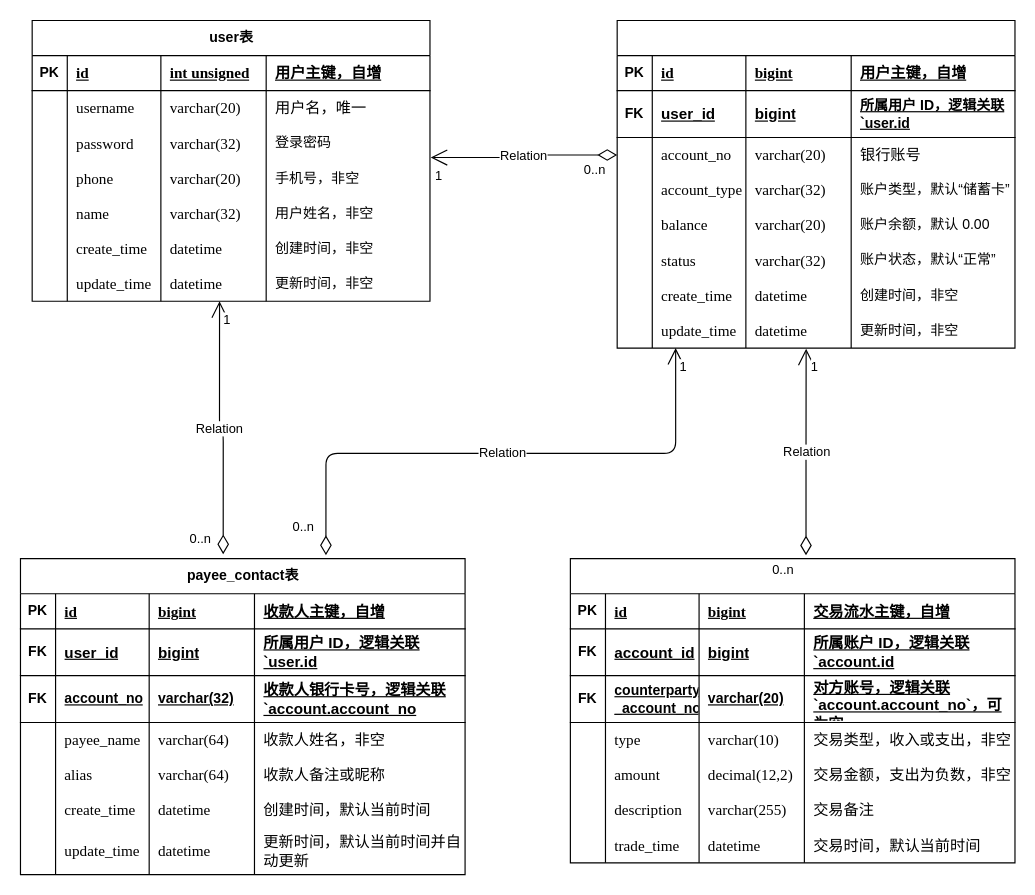
The diagram is 1035 pixels wide and 895 high, and some of its shapes have lost their labels. The shapes that lost their labels are listed below. From the top down, each one's box as (x1, y1, x2, y2) in pixels, then its label:
(616, 19, 1015, 348): account表
(569, 558, 1015, 863): transaction_record表
